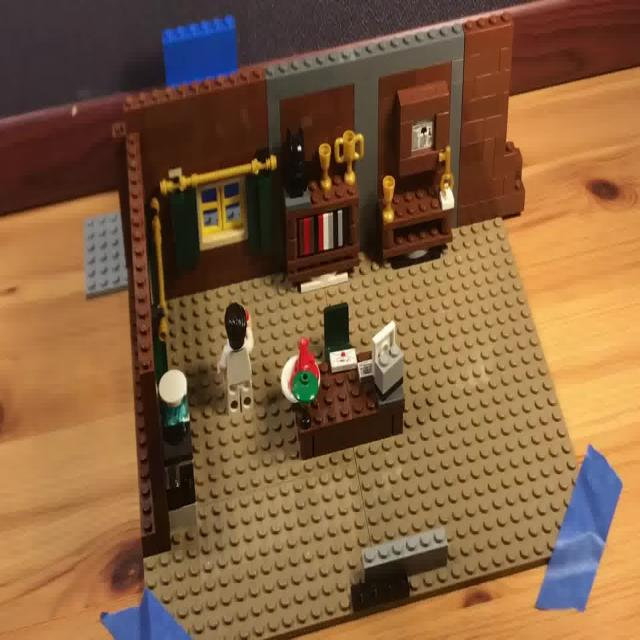brick: (283, 120, 322, 212)
figure: (163, 216, 583, 624), (120, 12, 521, 305), (284, 293, 419, 471), (131, 92, 171, 559), (282, 161, 359, 283), (381, 175, 451, 256), (162, 19, 236, 90), (360, 524, 448, 576), (85, 205, 129, 303)
hand: (213, 301, 262, 424)
